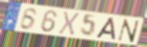5: (80, 13, 97, 39)
6: (39, 10, 59, 34), (19, 8, 39, 31)
A: (95, 17, 116, 41)
N: (117, 18, 141, 43)
X: (57, 11, 81, 37)
